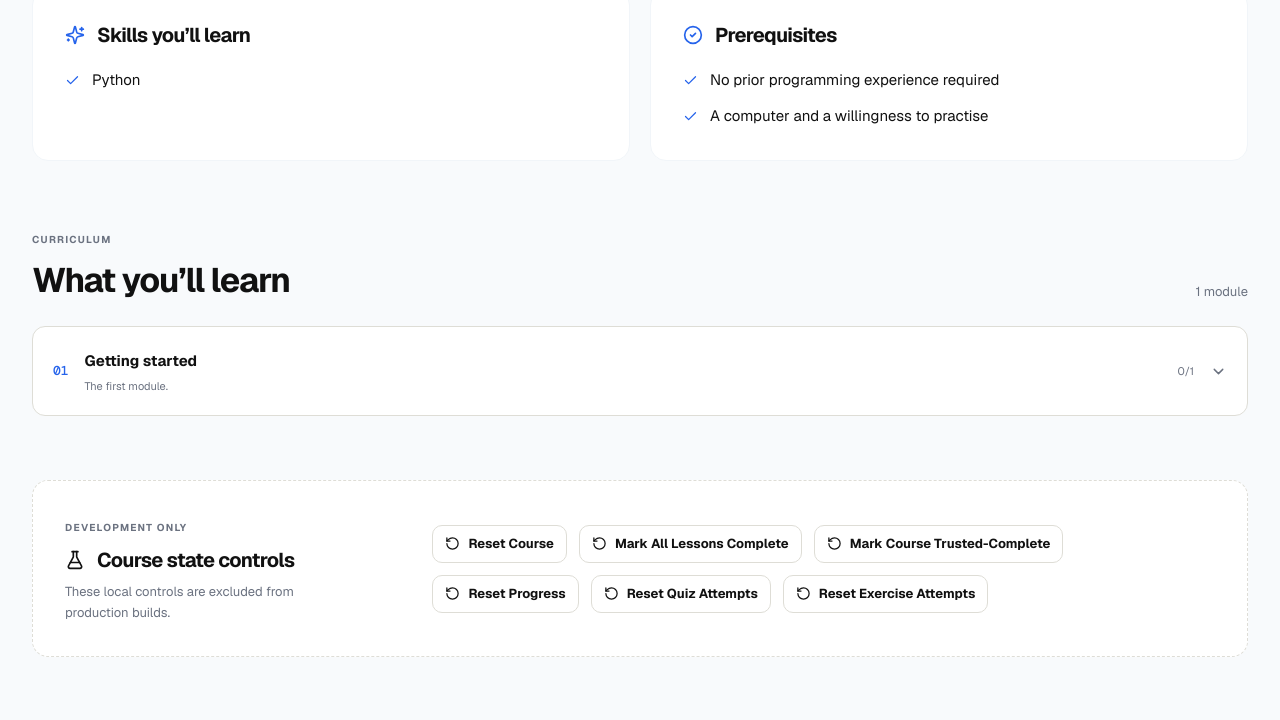
course overview shell and completed actions › removes the Dashboard control while preserving curriculum expansion
The width and height of the screenshot is (1280, 720).
(page scrolled)
Click the text "Getting started".
click(141, 360)  # box [85, 350, 197, 370]
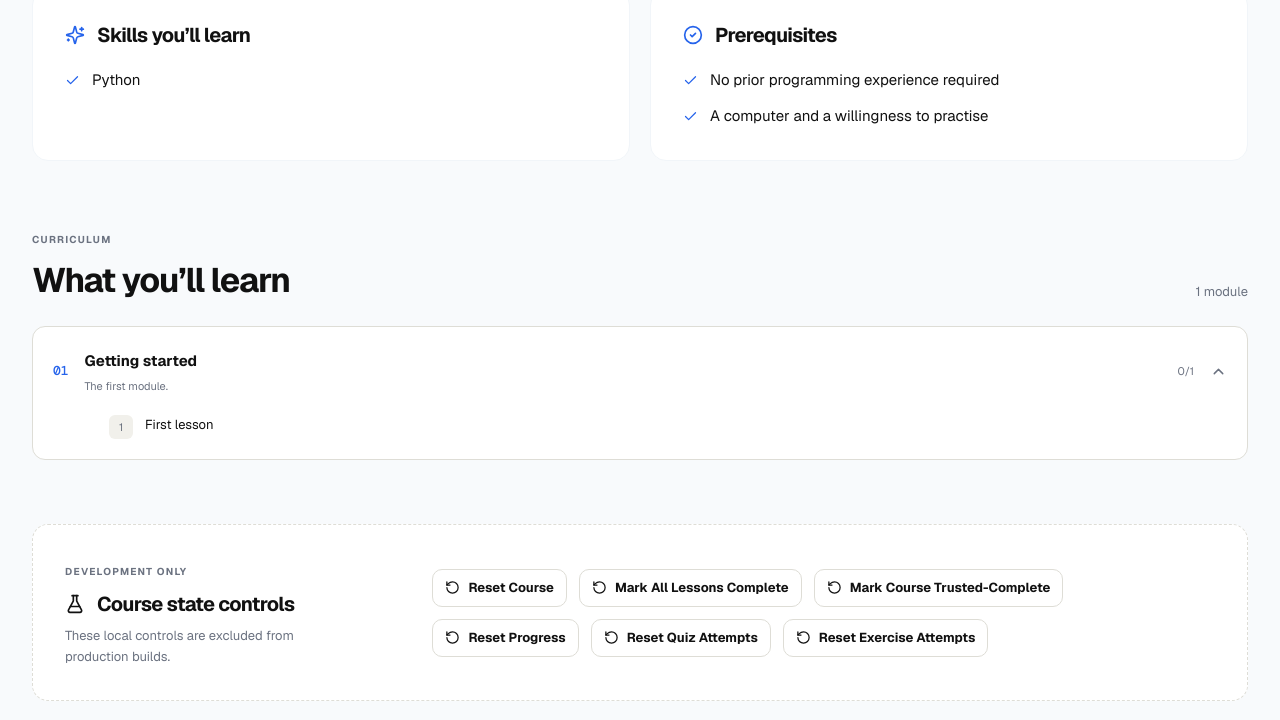
Expected: the list item "First lesson" is shown, [145, 416, 214, 433]
